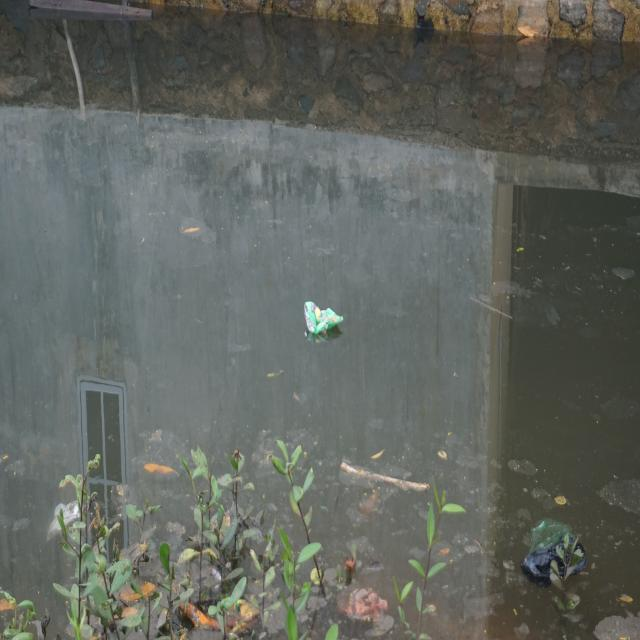Bungkus Makanan: (301, 291, 348, 351)
Kantong Plastik: (524, 513, 588, 594), (338, 572, 394, 633), (49, 496, 86, 543)
